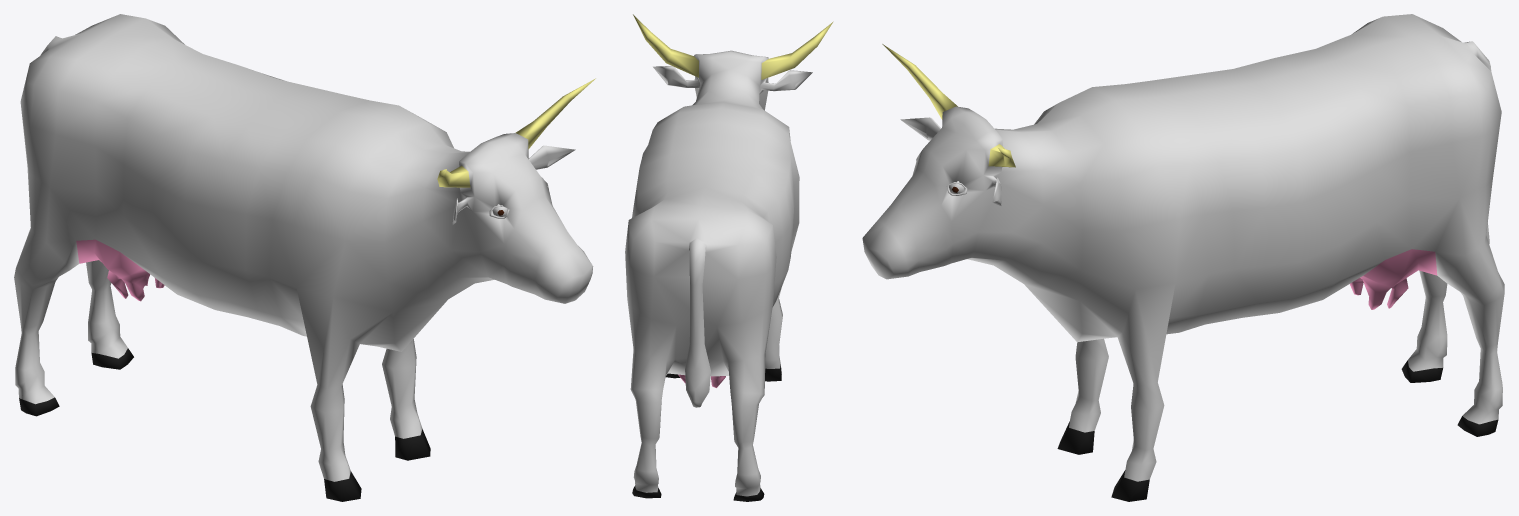
The model's file is vaca.glb.
The picture shows the model from 3 angles, left to right: view 1: azimuth 30°, elevation 25°; view 2: azimuth 150°, elevation 25°; view 3: azimuth 270°, elevation 25°; orthographic projection. The views are drawn at different scales.
Visible parts, largest first — view 1: Cube_0; view 2: Cube_0; view 3: Cube_0.
Boxes of the visible parts, x1,y1,x2,y2 form: Cube_0: [14, 14, 595, 501]; Cube_0: [625, 14, 833, 501]; Cube_0: [862, 14, 1504, 501].
Size of the model in its own units: 1.5 by 1.5 by 2.15.
